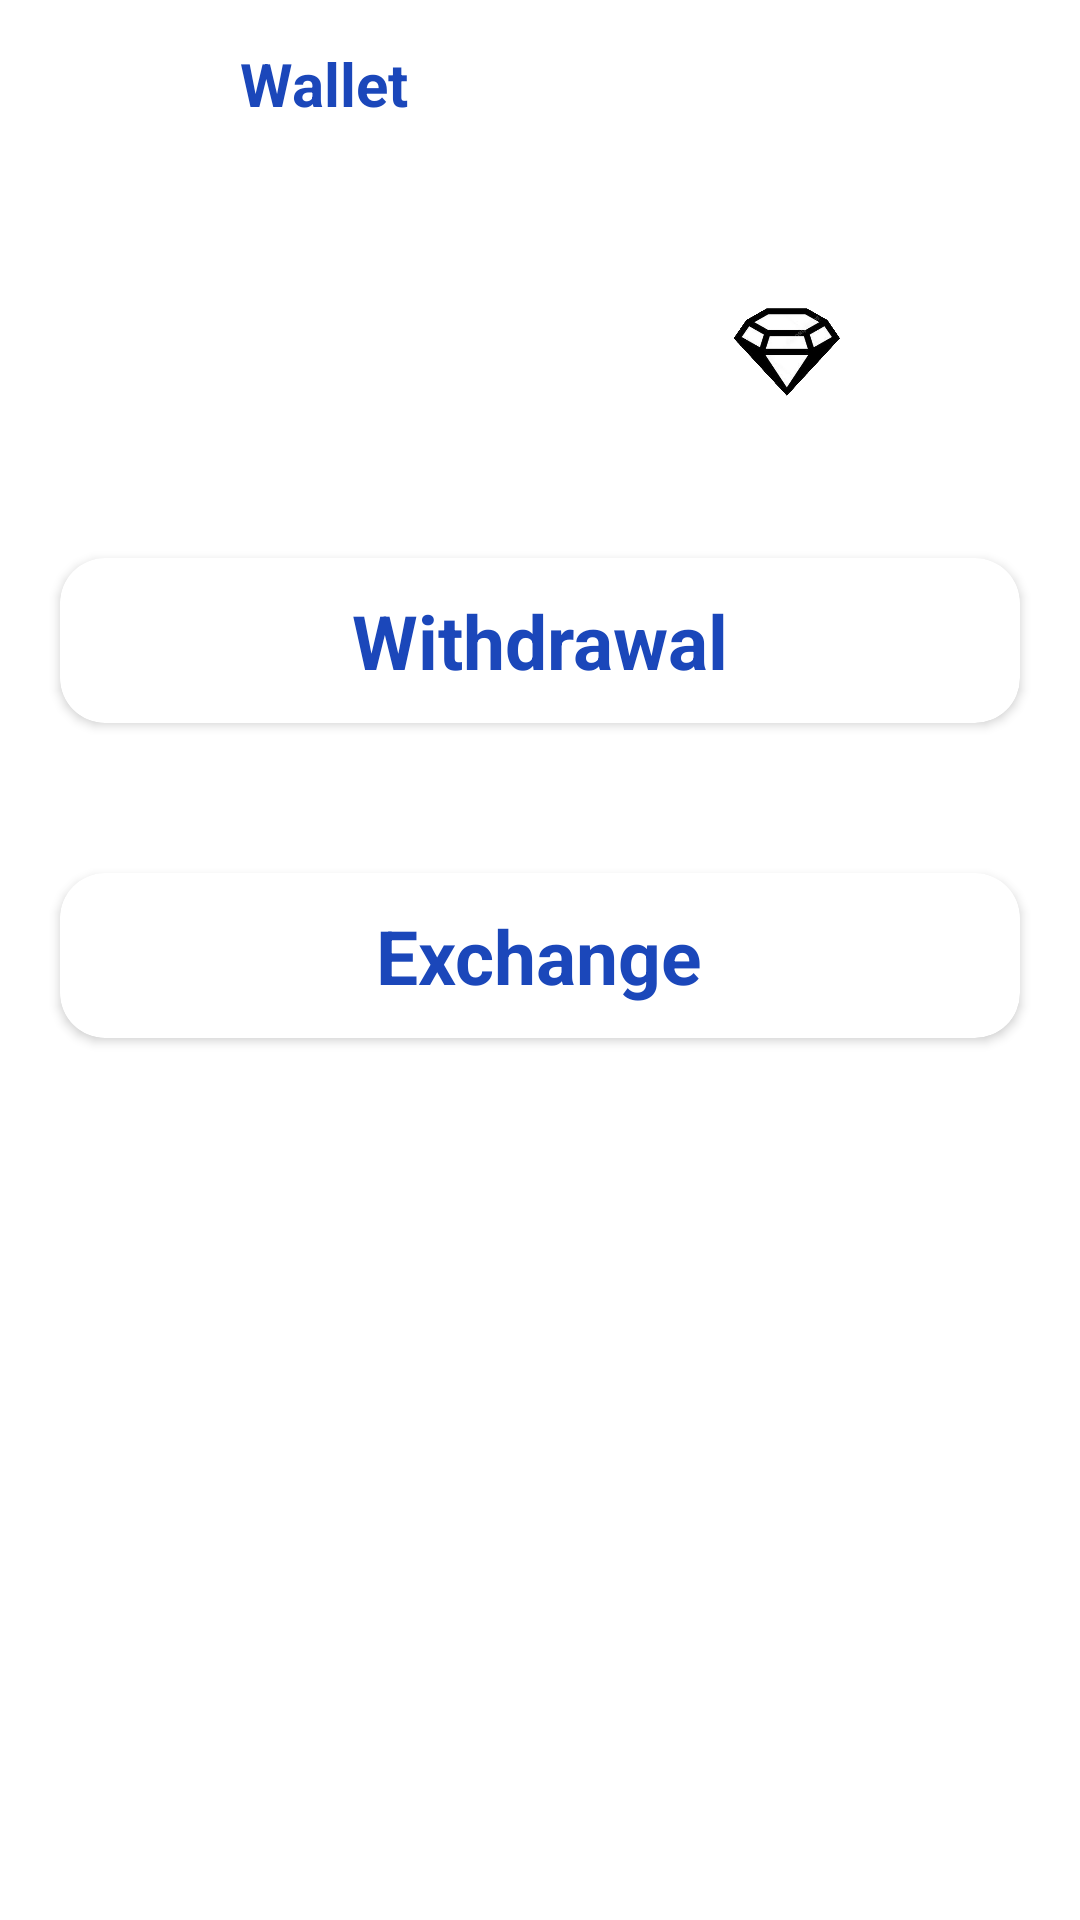

Screen size 1080×1920. Icon name, then its center in pixels as [x,y]:
dimonds: [787,352]
